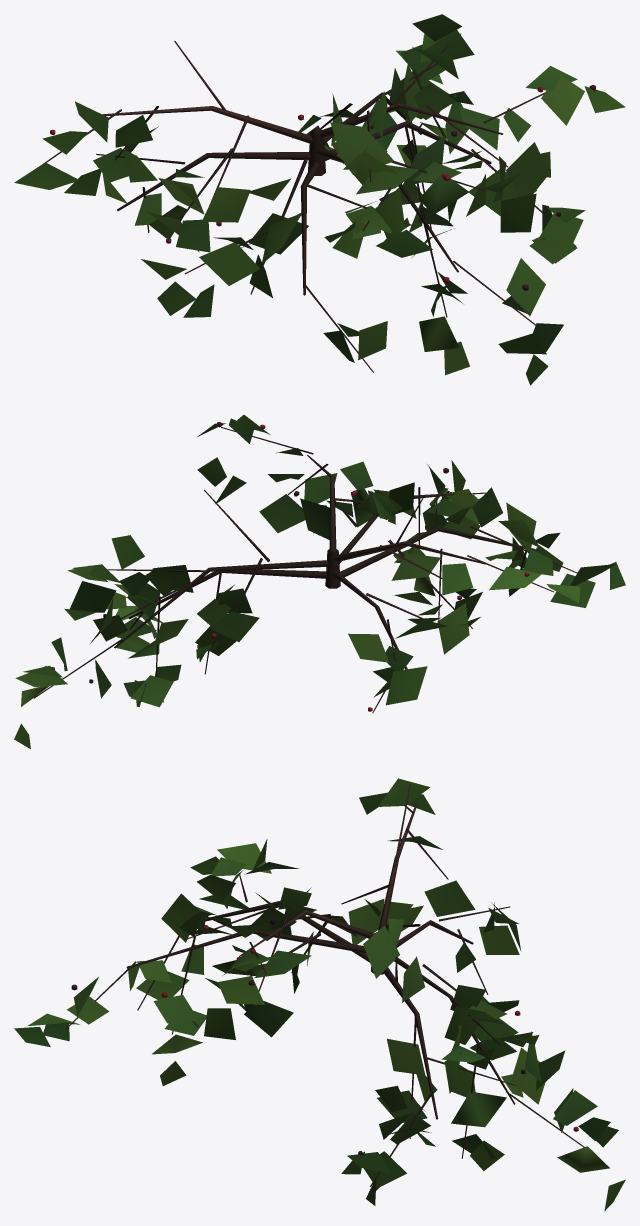
Rendered from bush-bramble-a.lod1.glb.
The picture shows the model from 3 angles, top to bottom: view 1: azimuth 30°, elevation 25°; view 2: azimuth 150°, elevation 25°; view 3: azimuth 270°, elevation 25°; orthographic projection. The views are drawn at different scales.
Visible parts, largest first — view 1: bush-bramble-a.lod1; view 2: bush-bramble-a.lod1; view 3: bush-bramble-a.lod1.
Boxes of the visible parts, x1=… form: bush-bramble-a.lod1: x1=14, y1=14, x2=625, y2=385; bush-bramble-a.lod1: x1=14, y1=415, x2=625, y2=749; bush-bramble-a.lod1: x1=14, y1=778, x2=625, y2=1211.
Size of the model in its own units: 2.52 by 1.3 by 2.7.
